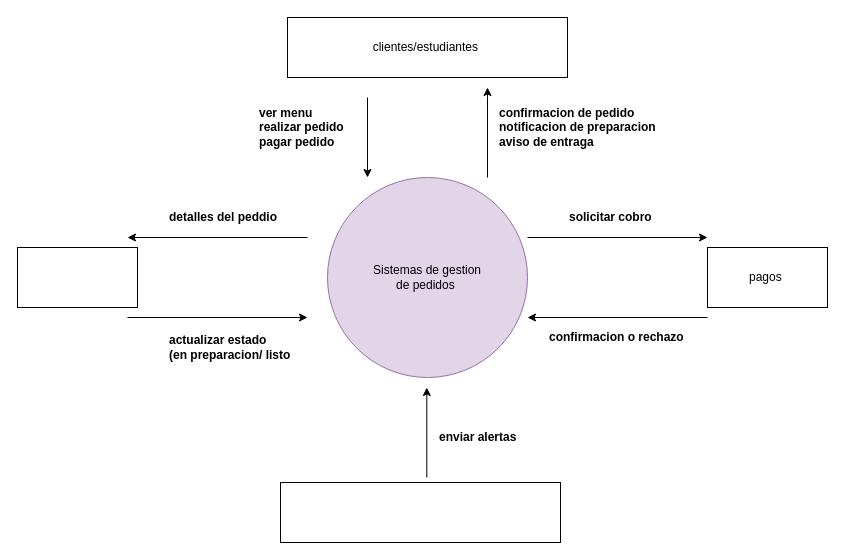
Some shapes in this 845 by 560 pixel diagram are drawn without their labels. The shapes that lost their labels are listed below. From the top down, each one's centre as x and y in pixels, then its label:
At point 77,277: "personal de cocina".
At point 420,512: "notificar".
